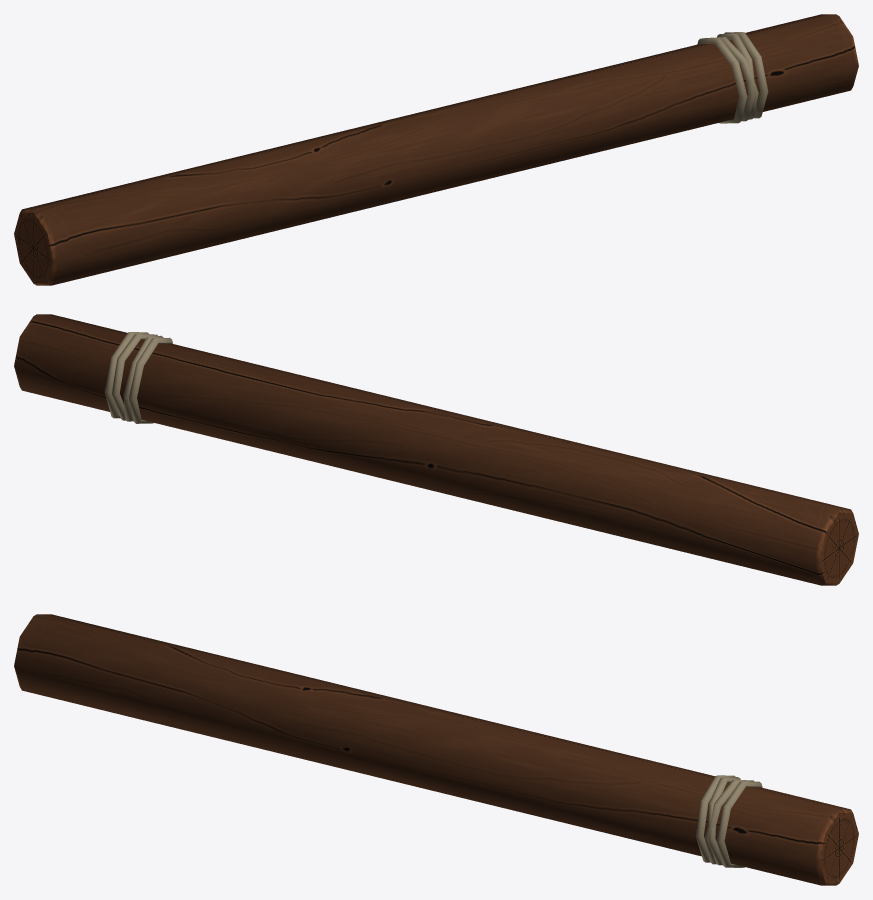
The model's file is LogBinding.fbx.
The picture shows the model from 3 angles, top to bottom: view 1: azimuth 30°, elevation 25°; view 2: azimuth 150°, elevation 25°; view 3: azimuth 330°, elevation 25°; orthographic projection.
Parts seen in each view (by area): view 1: LogBinding_LOD0; view 2: LogBinding_LOD0; view 3: LogBinding_LOD0.
Boxes of the visible parts, x1=… form: LogBinding_LOD0: x1=14, y1=14, x2=858, y2=285; LogBinding_LOD0: x1=14, y1=314, x2=858, y2=585; LogBinding_LOD0: x1=14, y1=614, x2=858, y2=885.
Size of what is drawn, in the model's own units: 489 by 50.28 by 50.28.
1 material, 1 textured.
